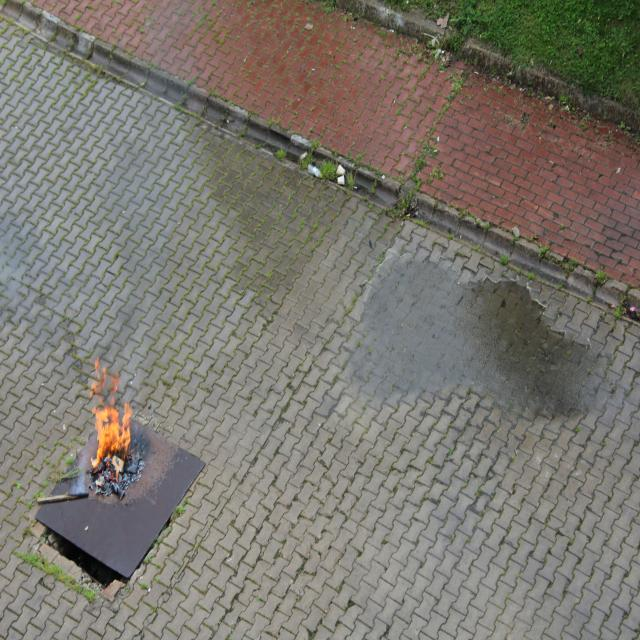fire: (82, 363, 134, 476)
